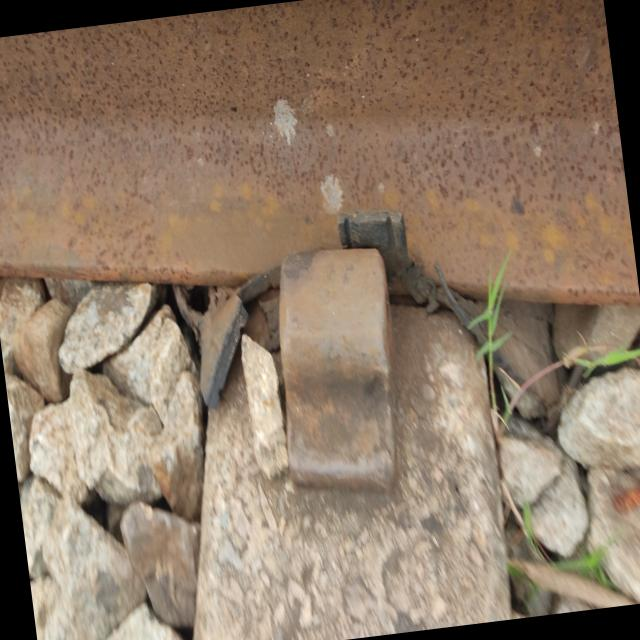track_bolt_missing: (264, 234, 406, 423)
